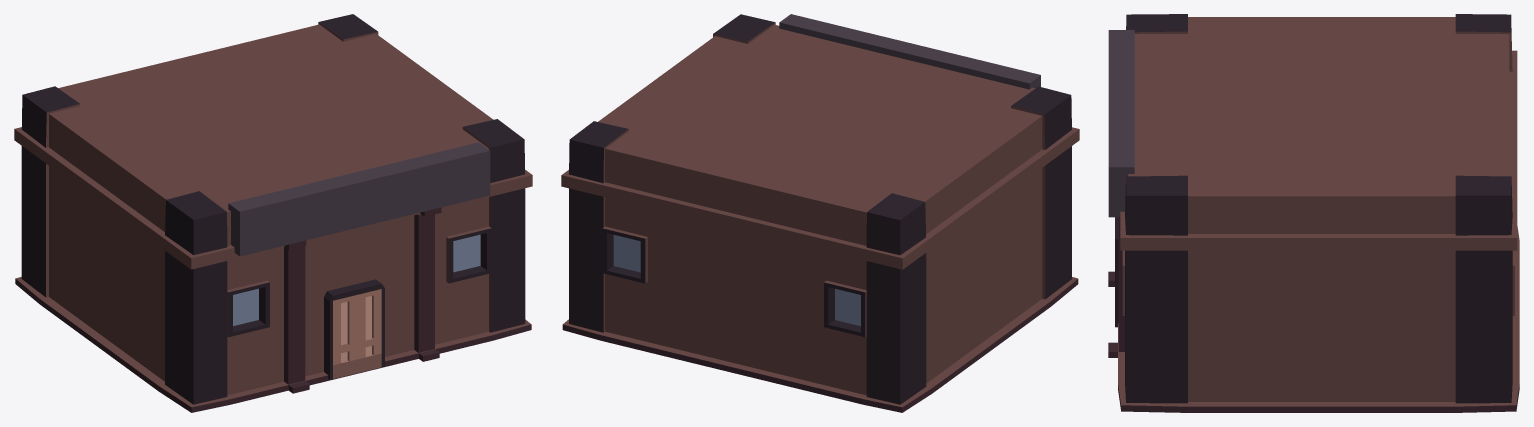
Rendered from Restoran.fbx.
The picture shows the model from 3 angles, left to right: view 1: azimuth 30°, elevation 25°; view 2: azimuth 150°, elevation 25°; view 3: azimuth 270°, elevation 25°; orthographic projection. The views are drawn at different scales.
Visible parts, largest first — view 1: Plane, Tabela, Cube; view 2: Plane, Tabela; view 3: Plane, Tabela, Cube.
Boxes of the visible parts, x1,y1,x2,y2 form: Plane: [14, 14, 532, 412]; Tabela: [228, 142, 490, 256]; Cube: [324, 279, 384, 379]; Plane: [561, 14, 1079, 412]; Tabela: [779, 14, 1040, 89]; Plane: [1108, 14, 1519, 412]; Tabela: [1108, 30, 1134, 217]; Cube: [1115, 217, 1118, 327].
Bounding box in the file's own units: 1617 × 872 × 1485.
3 materials, 3 textured.
